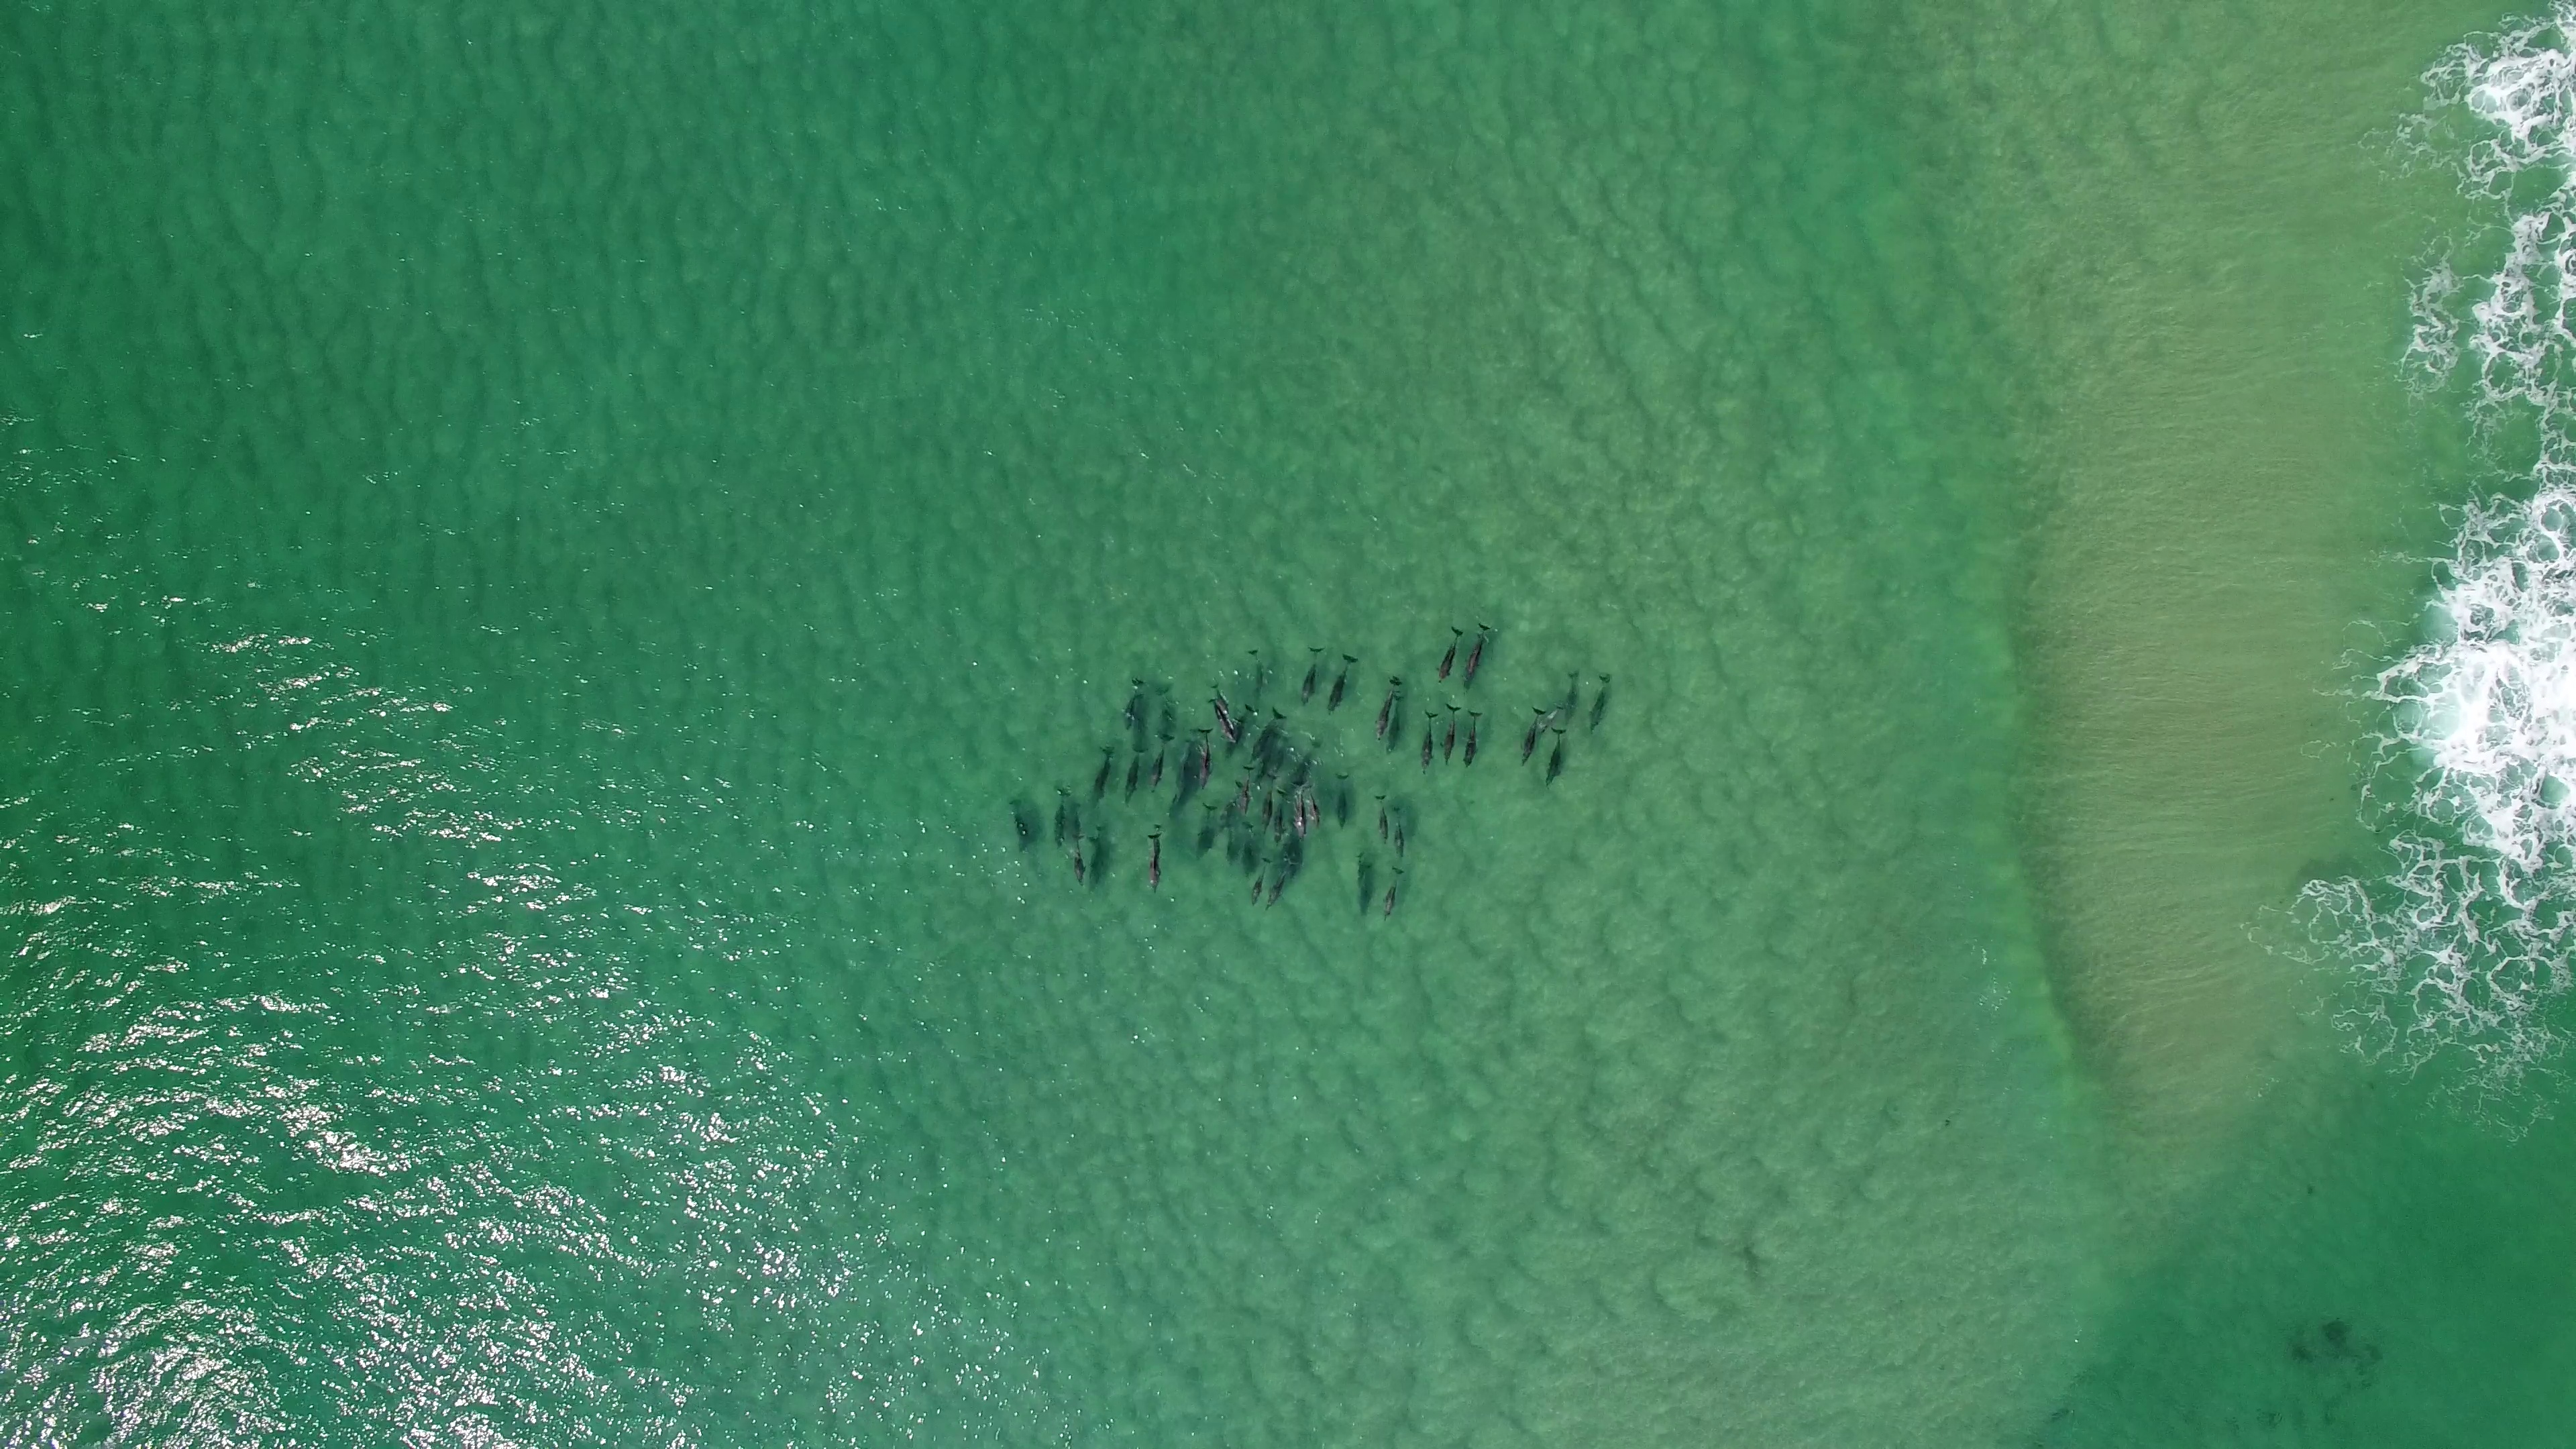dolphin: (1461, 621, 1495, 694), (1169, 736, 1201, 810), (1371, 674, 1405, 741), (1223, 701, 1258, 763), (1327, 649, 1361, 713), (1433, 625, 1465, 686), (1146, 731, 1177, 796), (1249, 708, 1284, 763), (1299, 644, 1329, 708), (1123, 743, 1150, 810), (1263, 856, 1295, 911), (1587, 671, 1614, 736), (1546, 722, 1571, 791), (1518, 702, 1543, 771), (1205, 697, 1238, 745), (1415, 709, 1438, 778), (1092, 743, 1116, 805), (1385, 686, 1407, 757), (1560, 669, 1585, 727), (1382, 865, 1407, 924), (1440, 701, 1460, 773), (1192, 803, 1219, 855), (1461, 708, 1483, 771), (1047, 787, 1070, 846), (1244, 646, 1269, 697), (1260, 771, 1279, 835), (1088, 826, 1108, 888), (1357, 853, 1375, 920), (1389, 805, 1410, 860), (1334, 771, 1353, 830), (1251, 855, 1272, 908), (1146, 830, 1164, 893), (1122, 674, 1143, 725), (1200, 725, 1215, 791), (1536, 701, 1568, 732), (1240, 823, 1258, 879), (1207, 685, 1233, 722), (1302, 782, 1323, 828), (1224, 800, 1238, 867), (1373, 794, 1391, 847), (1274, 786, 1288, 847), (1293, 778, 1306, 842), (1238, 763, 1253, 817), (1074, 833, 1086, 892)
